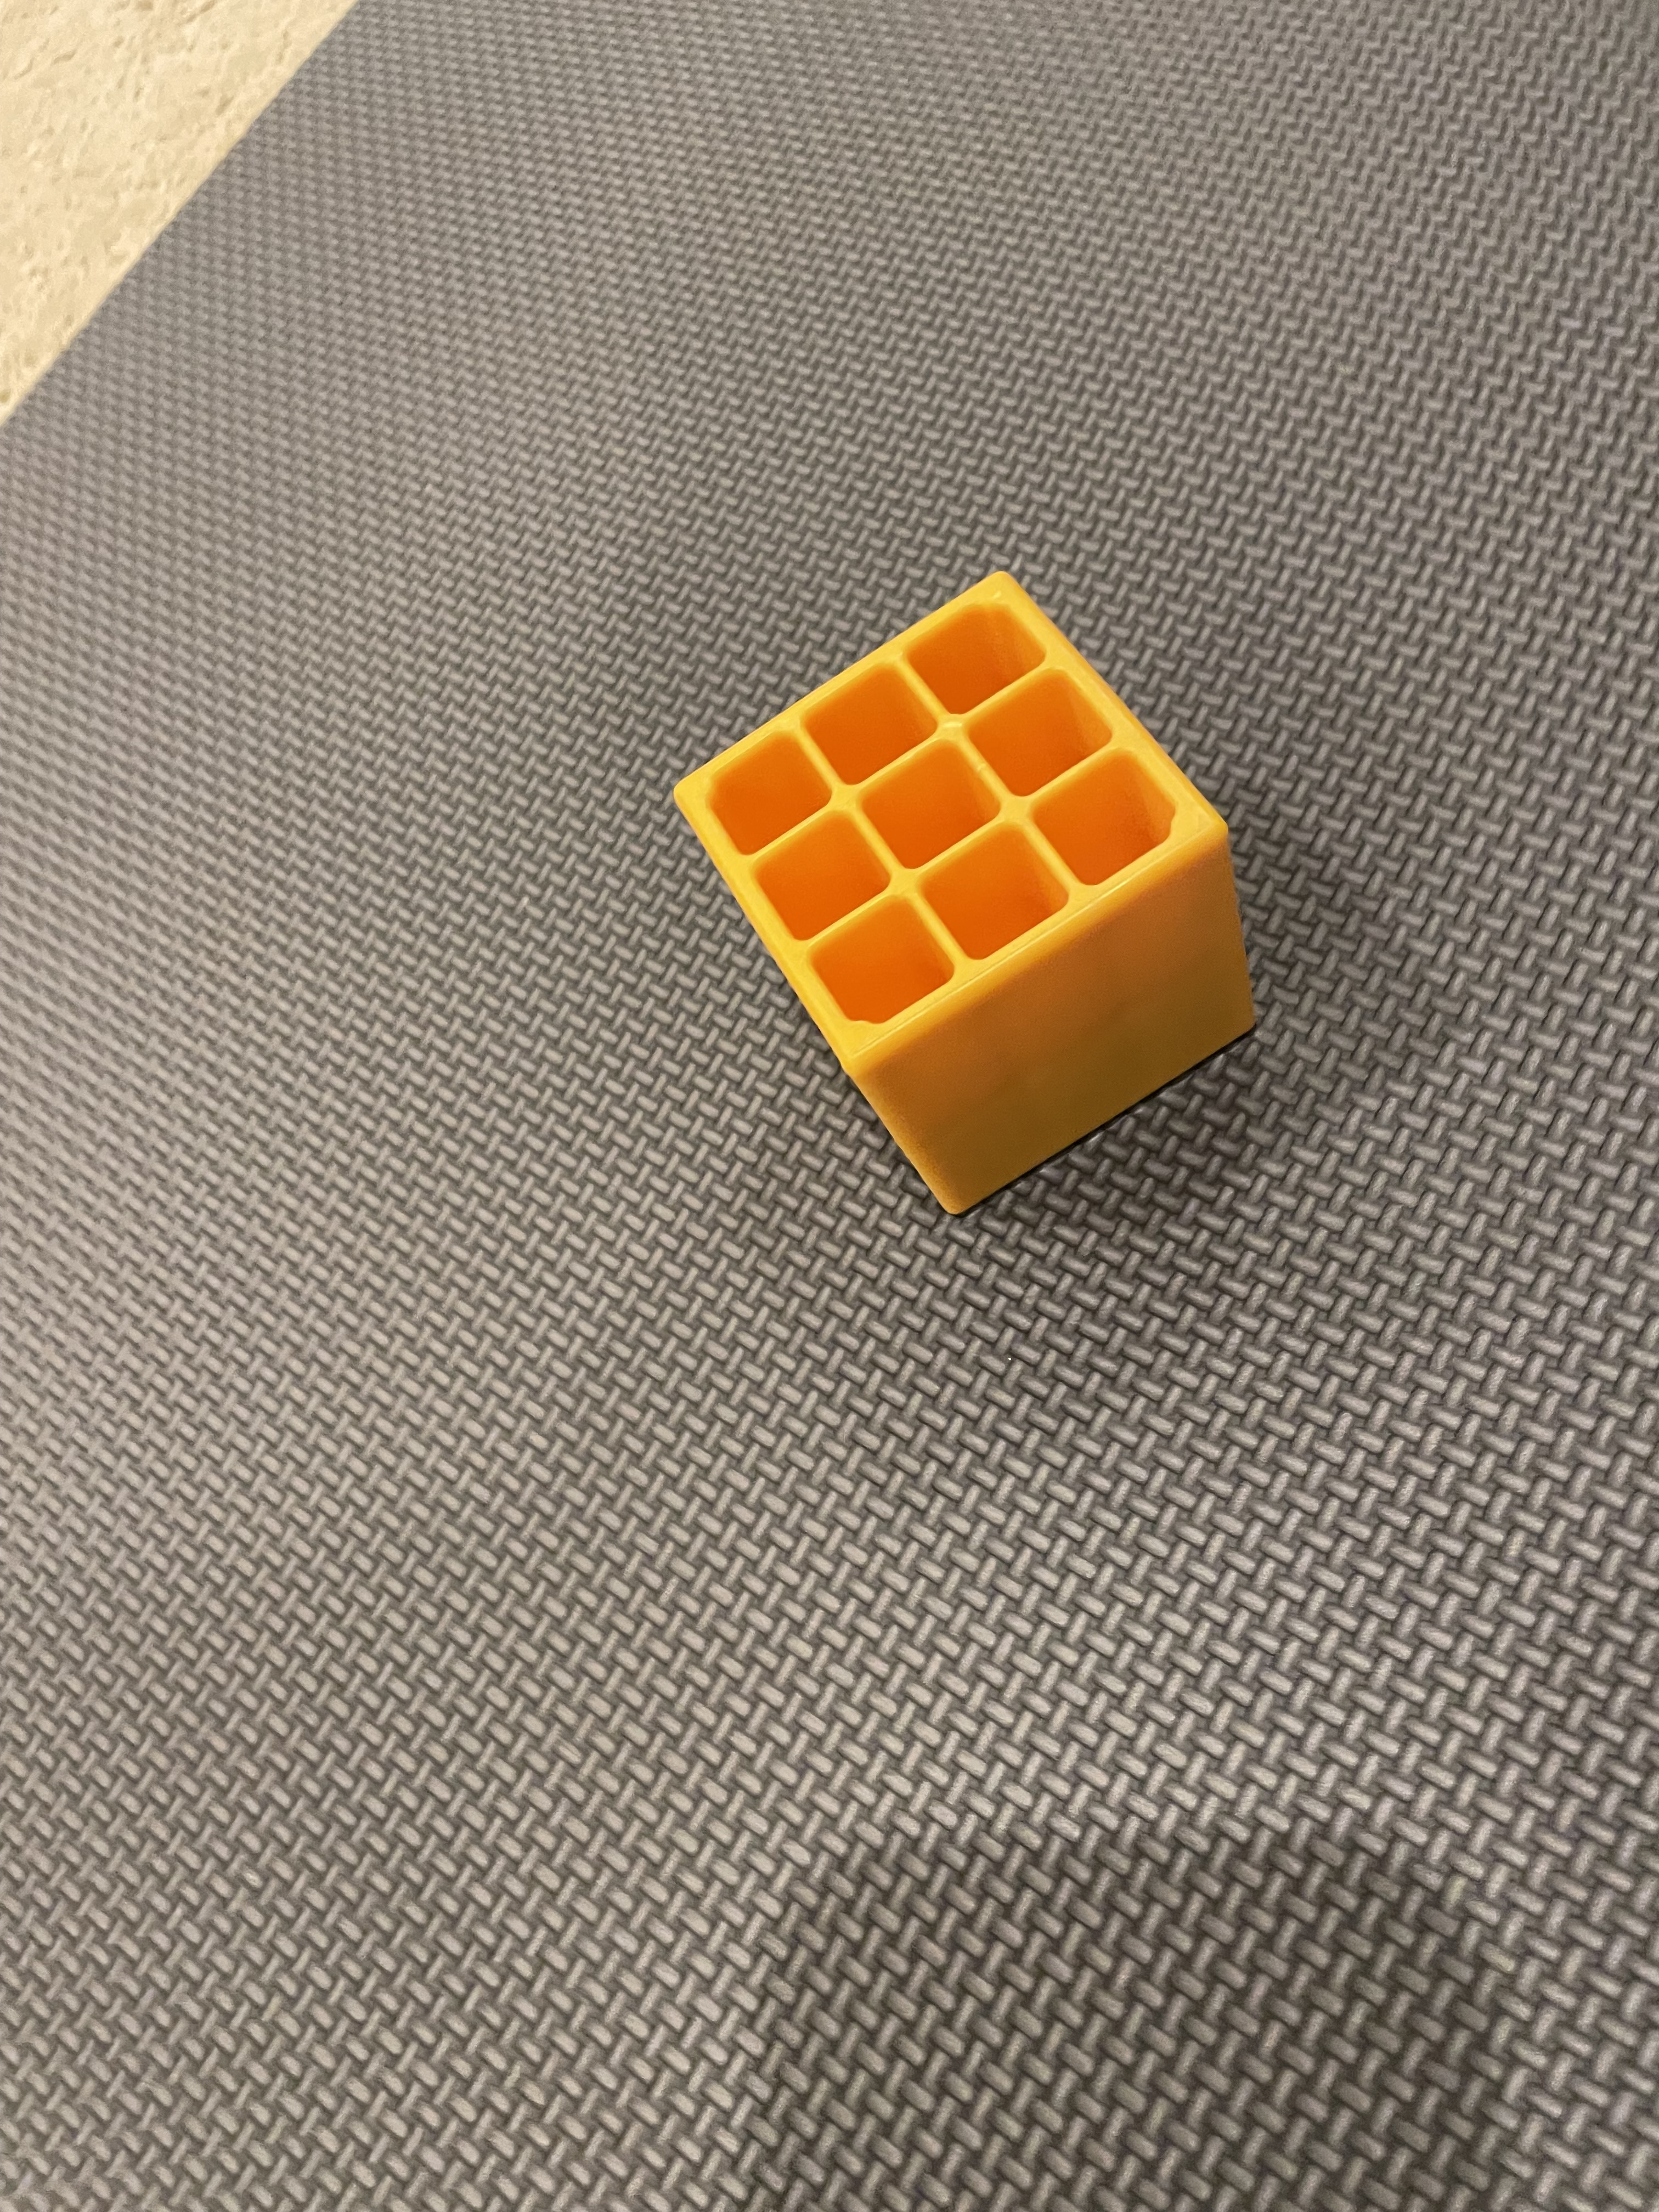cube: (619, 550, 1328, 1266)
